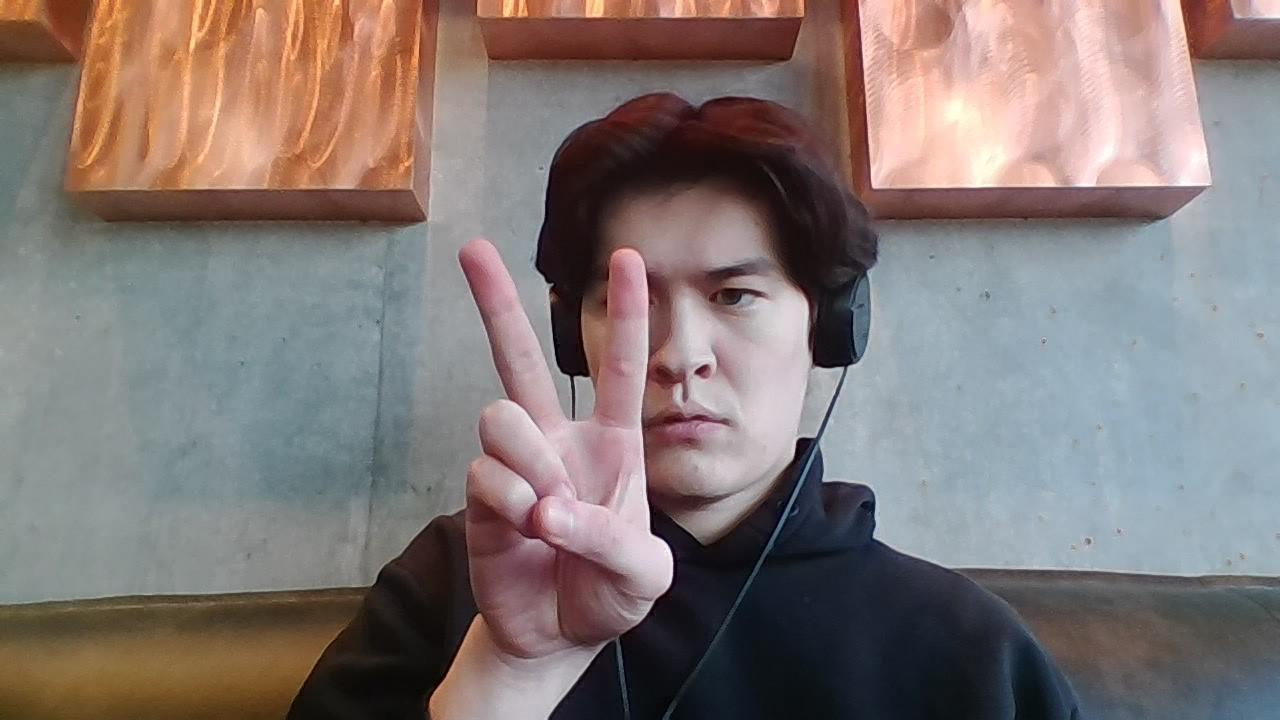peace: (458, 235, 678, 659)
